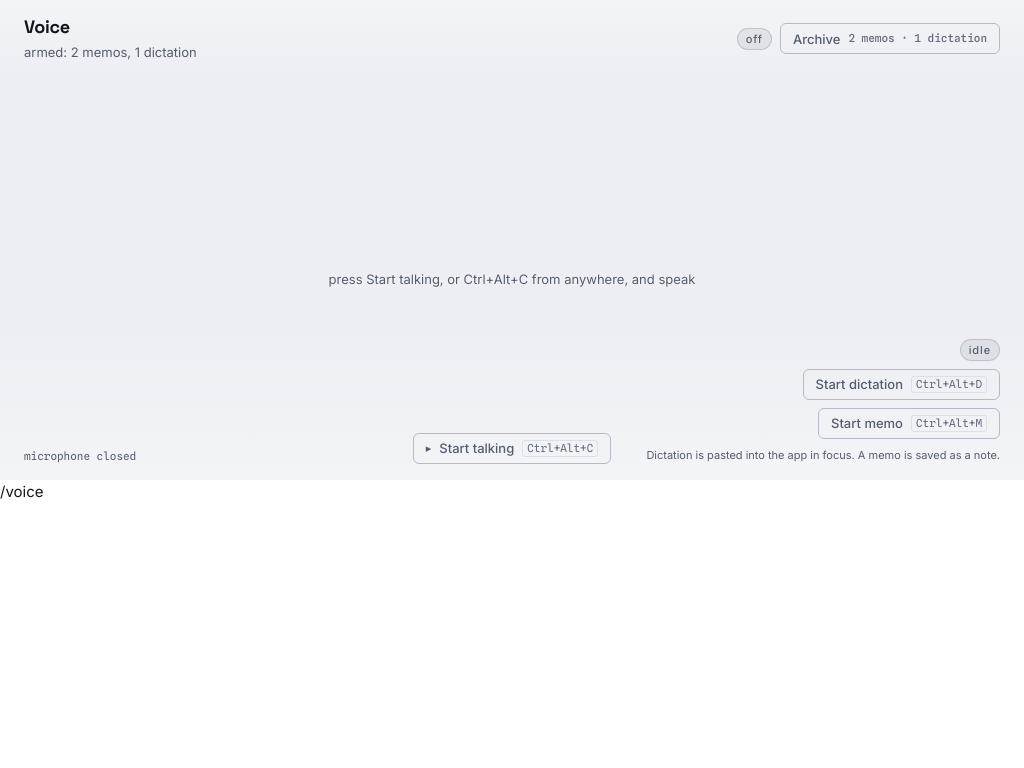
Voice — the room › the archive opens on memos, switches tabs, and closes on escape back to its button
Expected: the dialog "Voice archive" is not shown
Click the button "Archive 2 memos · 1 dictation".
click(890, 39)  # box left=780, top=23, right=1000, bottom=54
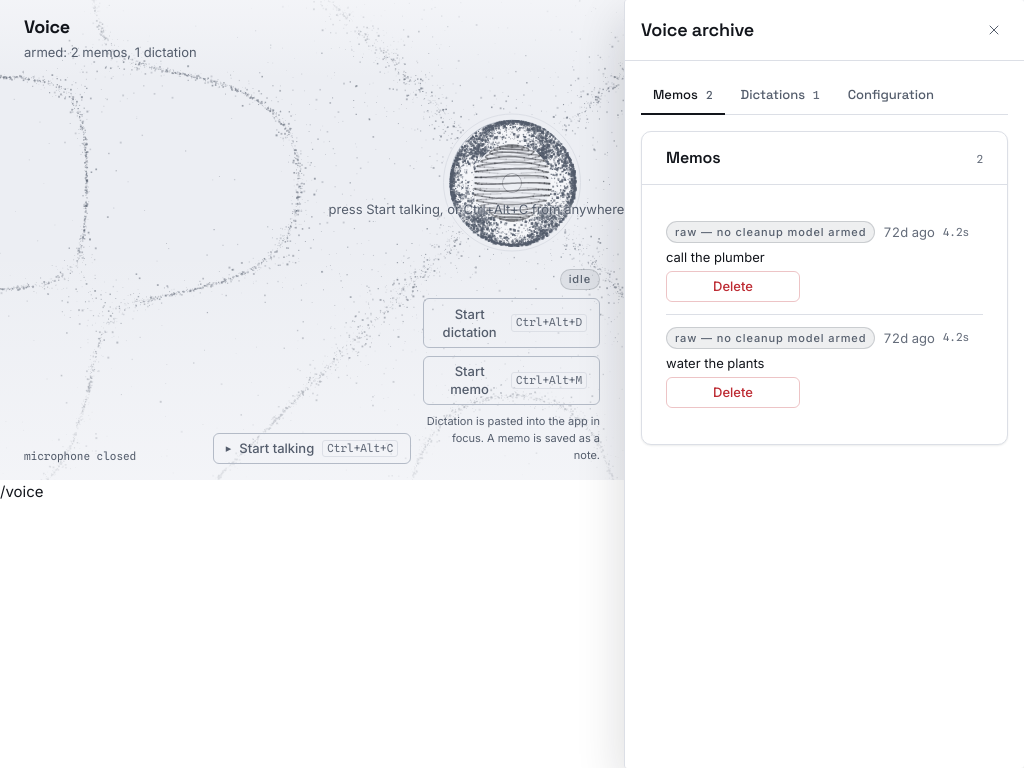
Now the button "Archive 2 memos · 1 dictation" is expanded, box left=780, top=23, right=1000, bottom=54
Now the element named "Archive sections" is shown, box left=641, top=77, right=1008, bottom=115
Now the text "call the plumber" is shown, box left=666, top=249, right=765, bottom=265
# Radix selects on mousedown, never on click.
Press the mouse on the tab "Dictations 1" at (780, 96), box left=728, top=77, right=832, bottom=115
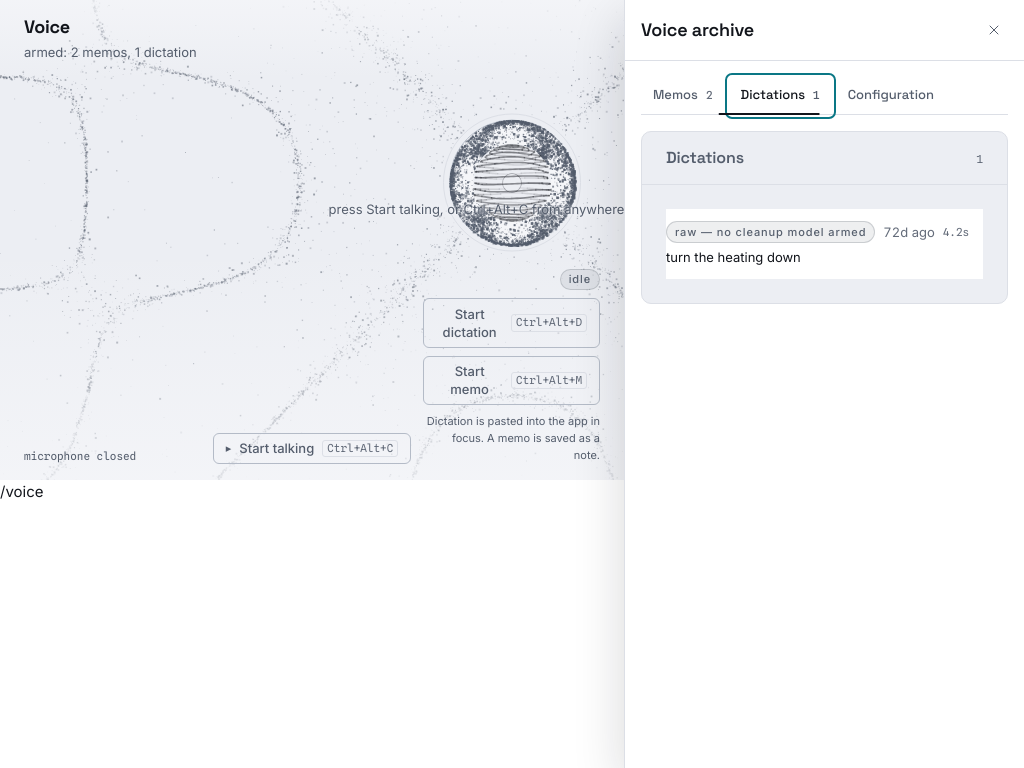
Now the tab "Configuration" is shown, box left=836, top=77, right=946, bottom=115
Now the text "turn the heating down" is shown, box left=666, top=249, right=801, bottom=265
Now the text "call the plumber" is gone
Press Escape
Now the dialog "Voice archive" is shown
Press Escape in the dialog "Voice archive", box left=624, top=0, right=1023, bottom=767
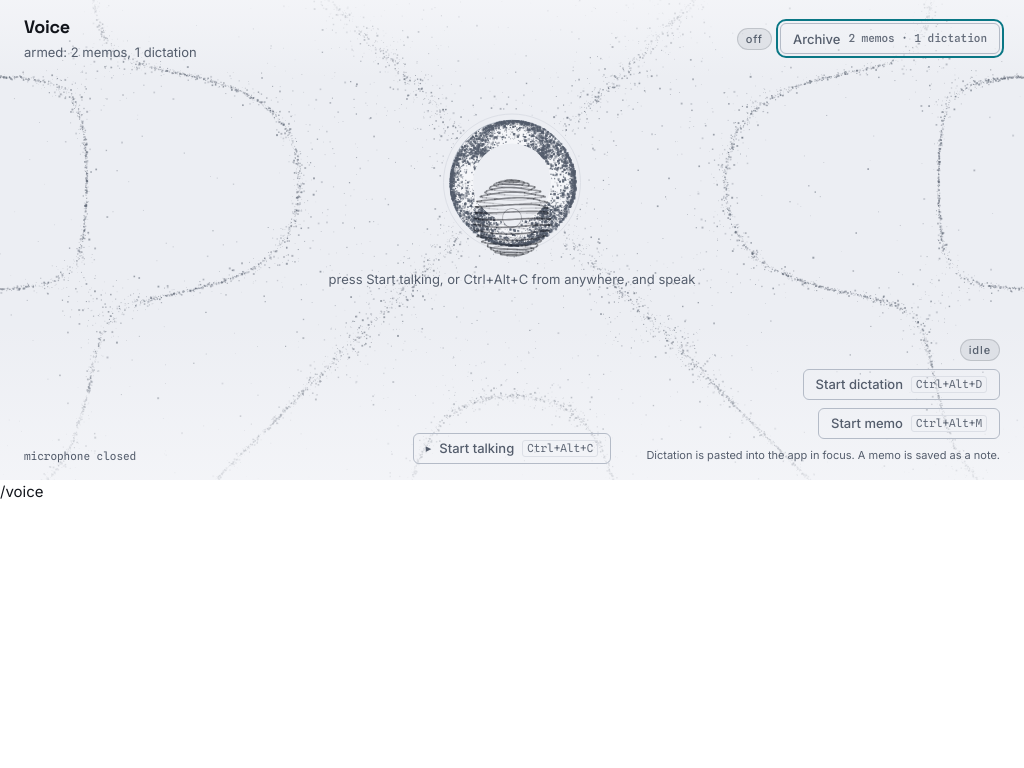
Now the heading "Voice archive" is gone
Now the button "Archive 2 memos · 1 dictation" is collapsed
# And so does its own Close button, with the same hand-back.
Click the button "Archive 2 memos · 1 dictation".
click(890, 39)  # box left=780, top=23, right=1000, bottom=54
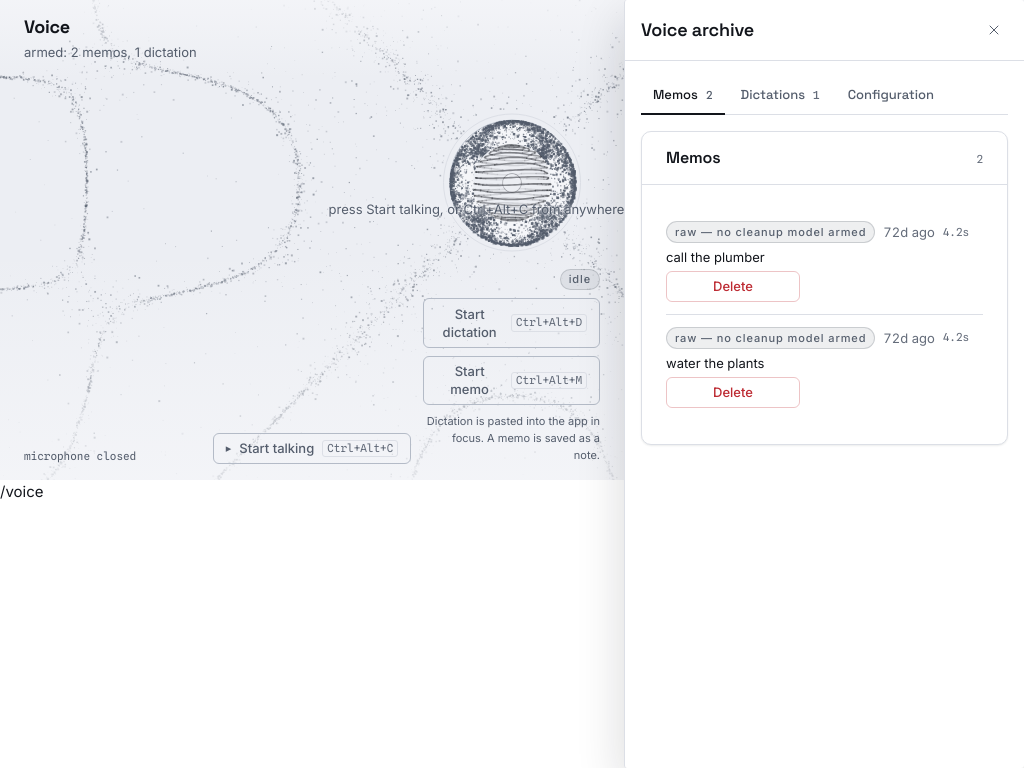
Click the button named "Close".
click(994, 30)  # box left=980, top=16, right=1008, bottom=44
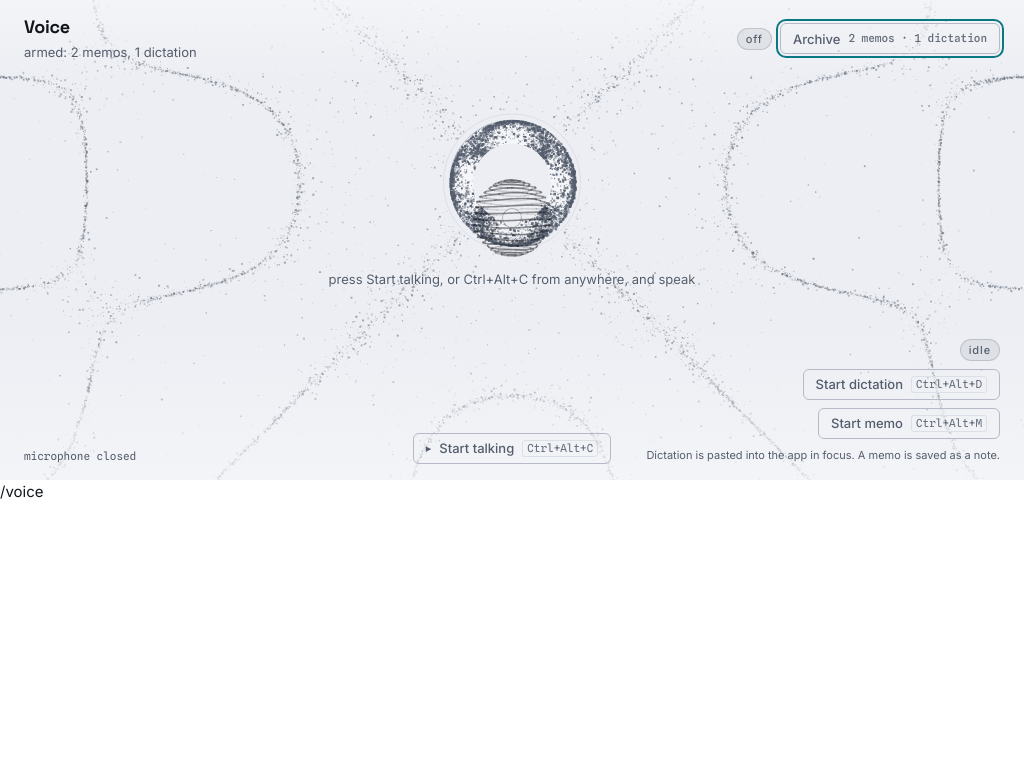
Now the heading "Voice archive" is gone
